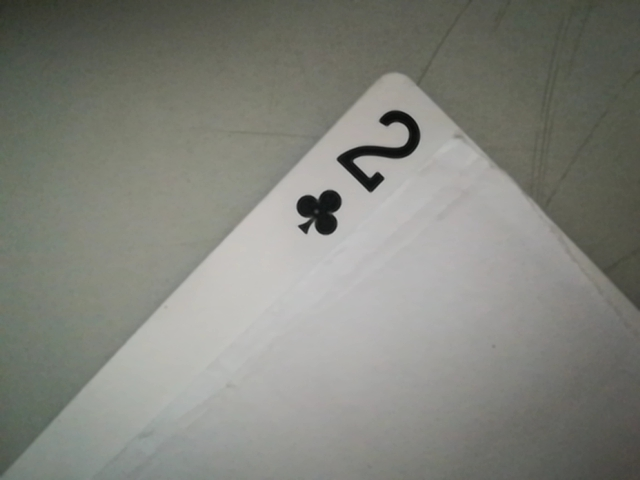mh 2: (283, 97, 452, 242)
